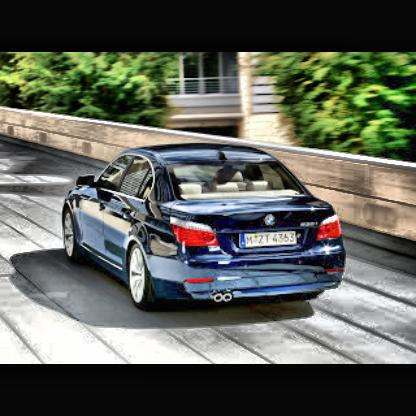BMW M5 Sedan 2010: (64, 144, 357, 313)
